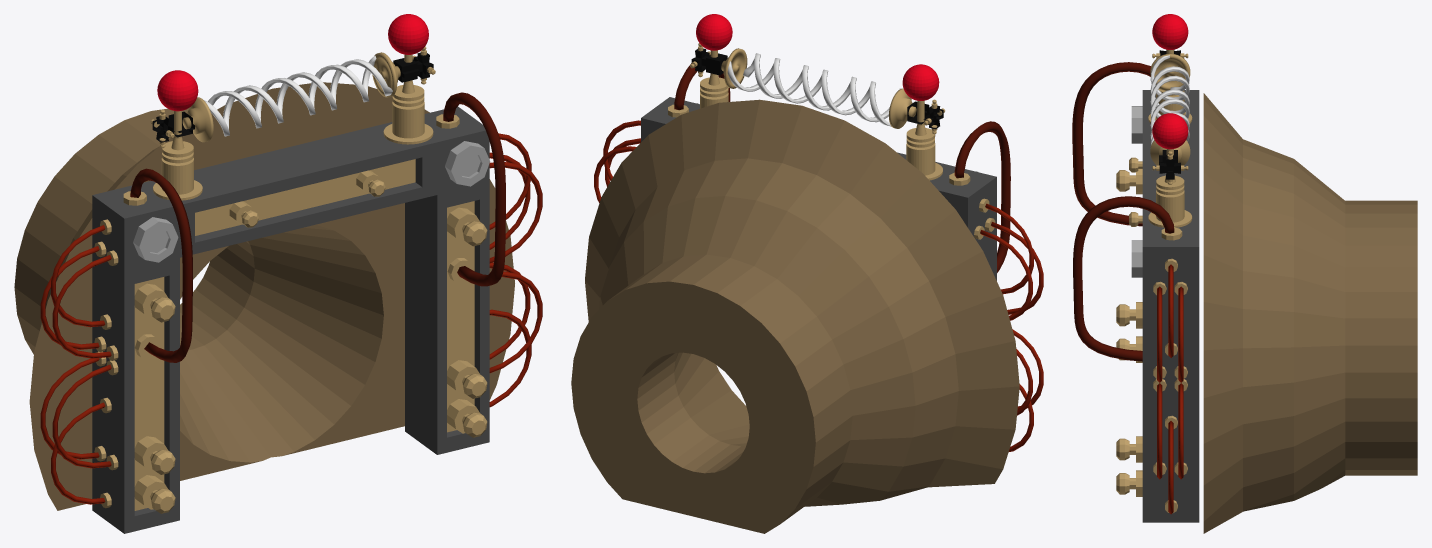
Rendered from Rampe-Gate.fbx.
The picture shows the model from 3 angles, left to right: view 1: azimuth 30°, elevation 25°; view 2: azimuth 150°, elevation 25°; view 3: azimuth 270°, elevation 25°; orthographic projection. The views are drawn at different scales.
Visible parts, largest first — view 1: Rampe-Gate, Rampe-Gate-Spring; view 2: Rampe-Gate, Rampe-Gate-Spring; view 3: Rampe-Gate, Rampe-Gate-Spring.
Part boxes in pixels (box(x1,y1,x2,y2)): Rampe-Gate: box(14, 14, 542, 533); Rampe-Gate-Spring: box(204, 55, 392, 136); Rampe-Gate: box(571, 14, 1043, 533); Rampe-Gate-Spring: box(727, 53, 900, 126); Rampe-Gate: box(1072, 14, 1417, 533); Rampe-Gate-Spring: box(1150, 55, 1189, 145).
Bounding box in the file's own units: 1314 × 1111 × 910.
